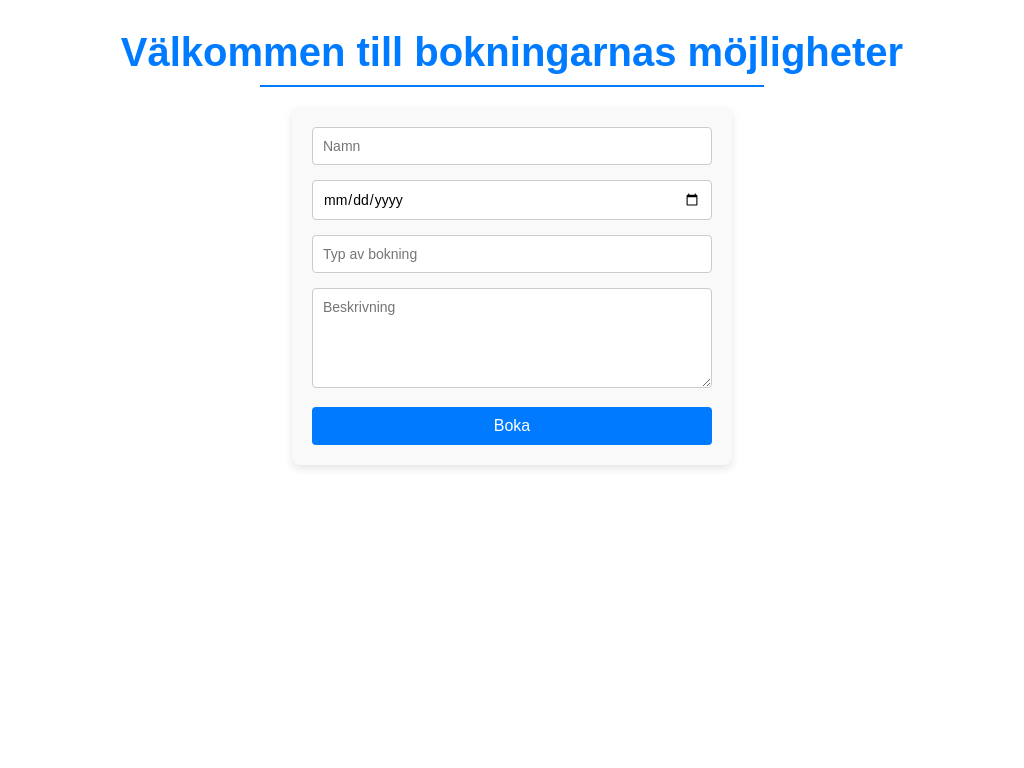
Test: BookingForm and BookingList integration › should add a new booking to the list when the form is submitted and then cancel a booking
This screenshot has width=1024, height=768.
In the field with placeholder "Namn": (512, 146) [312,127,712,165], type "Sally Stenegärd"
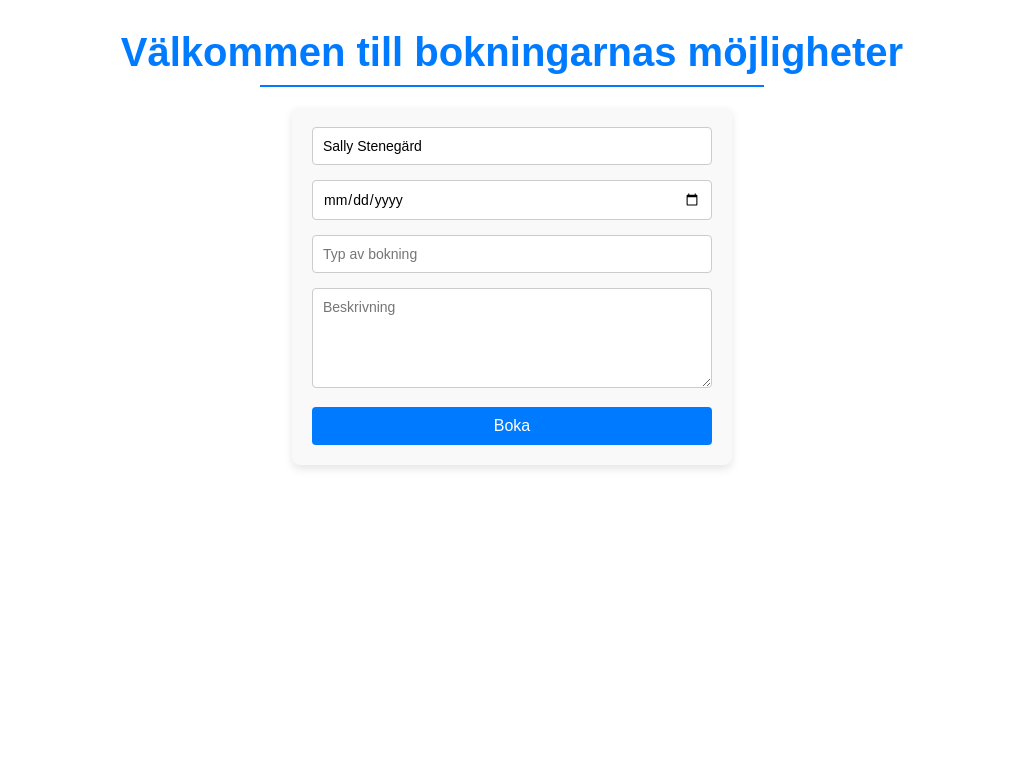
In the field with placeholder "Typ av bokning": (512, 254) [312,235,712,273], type "Massage"
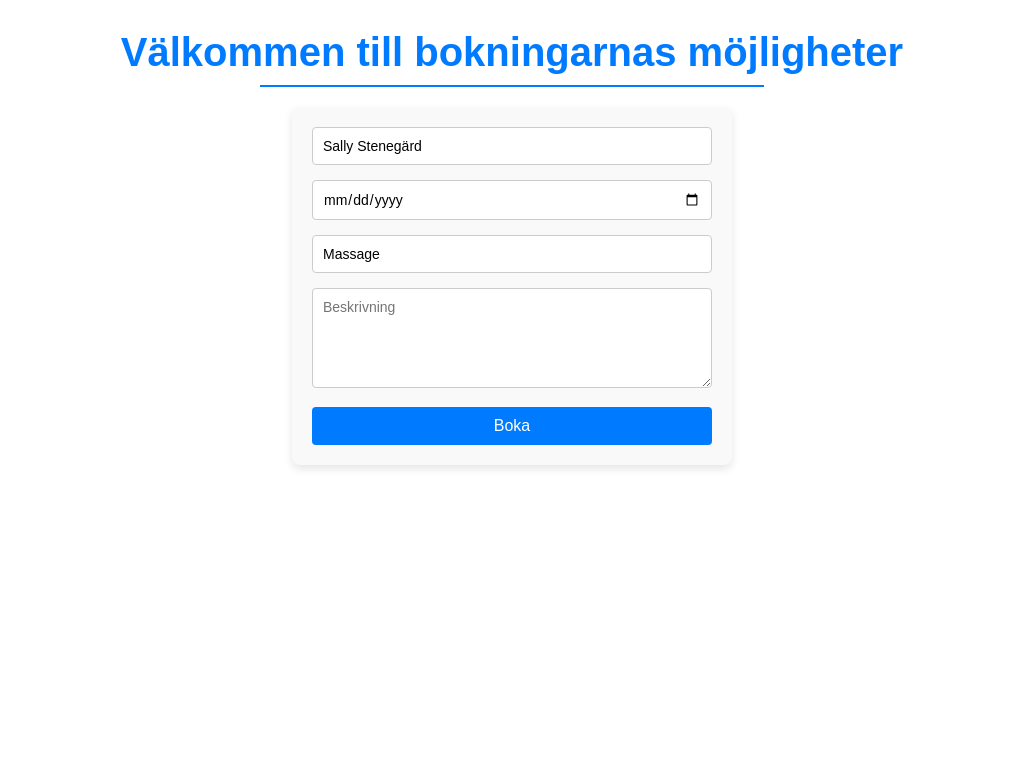
In the text box with placeholder "Beskrivning": (512, 338) [312,288,712,388], type "Helkroppsmassage hos Ewa"
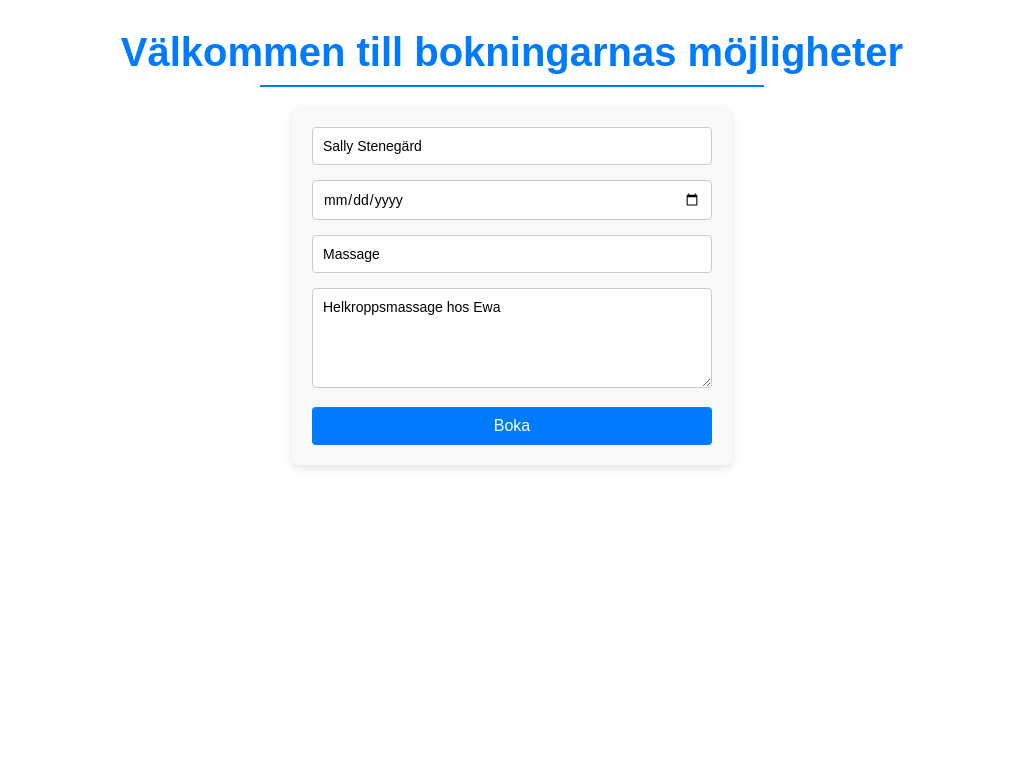
In the date field with placeholder "Datum": (512, 200) [312,180,712,220], type "2024-09-01"
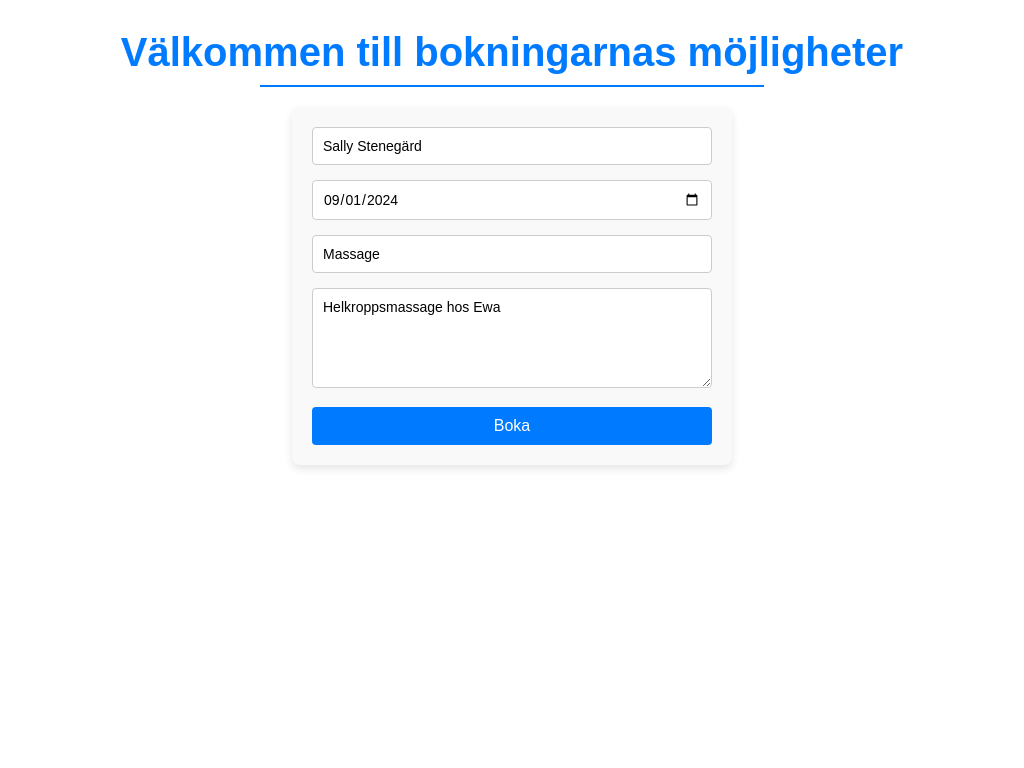
Click the button "Boka": (512, 426) [312,407,712,445]
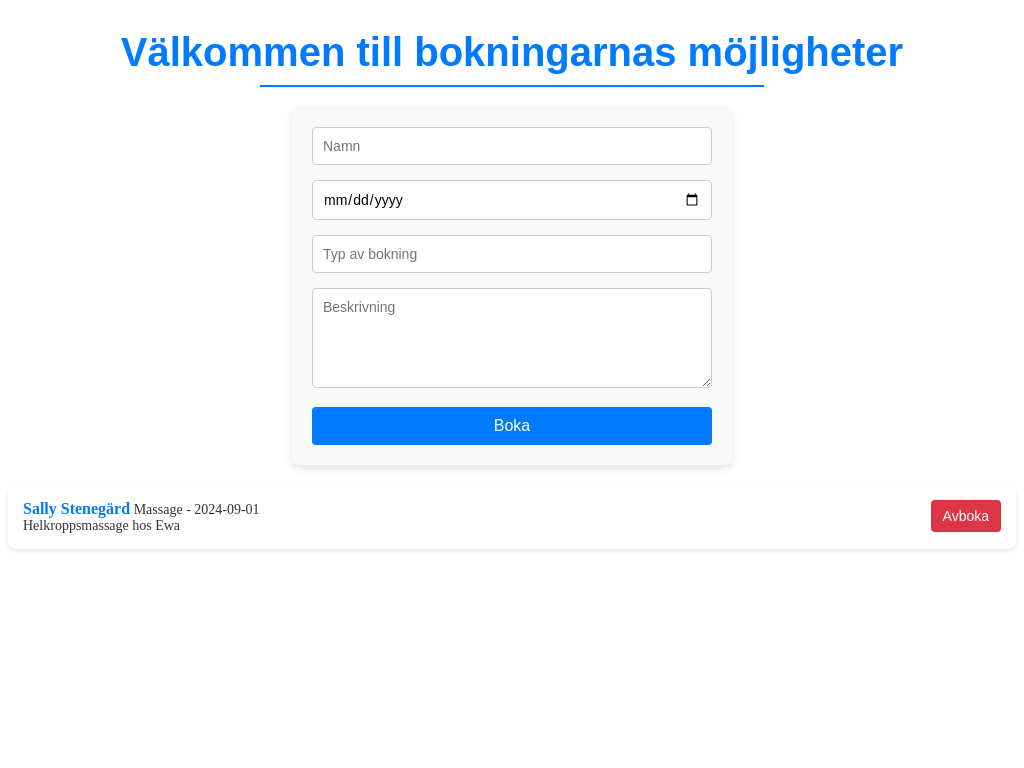
Result: the text "Sally Stenegärd" is shown at [23,500,130,517]
Click the button "Avboka": (966, 516) [930,500,1001,532]
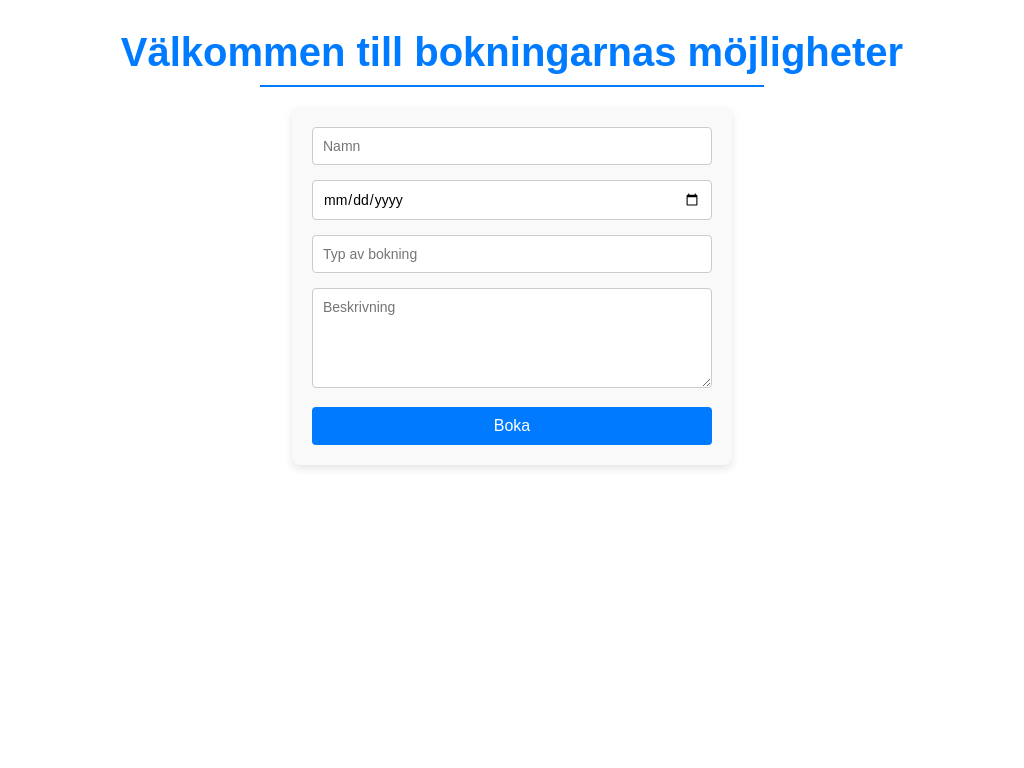
Result: the text "Sally Stenegärd" is gone
